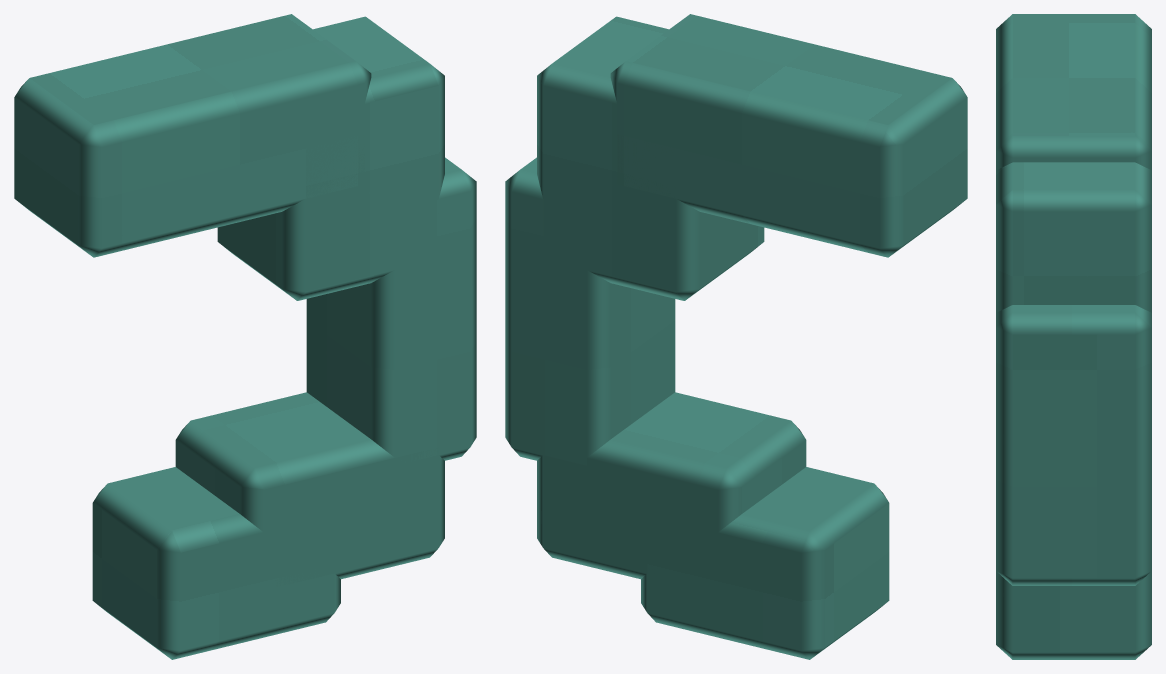
Rendered from Loop-handle.glb.
3 renders of one model, left to right at view 1: azimuth 30°, elevation 25°; view 2: azimuth 150°, elevation 25°; view 3: azimuth 270°, elevation 25°, orthographic. The views are drawn at different scales.
Parts seen in each view (by area): view 1: Loop-handle; view 2: Loop-handle; view 3: Loop-handle.
Boxes of the visible parts, x1,y1,x2,y2 form: Loop-handle: (14,14,476,659); Loop-handle: (505,14,967,659); Loop-handle: (996,14,1151,659).
Bounding box in the file's own units: 0.132 × 0.1755 × 0.047.
1 material, 1 textured.
